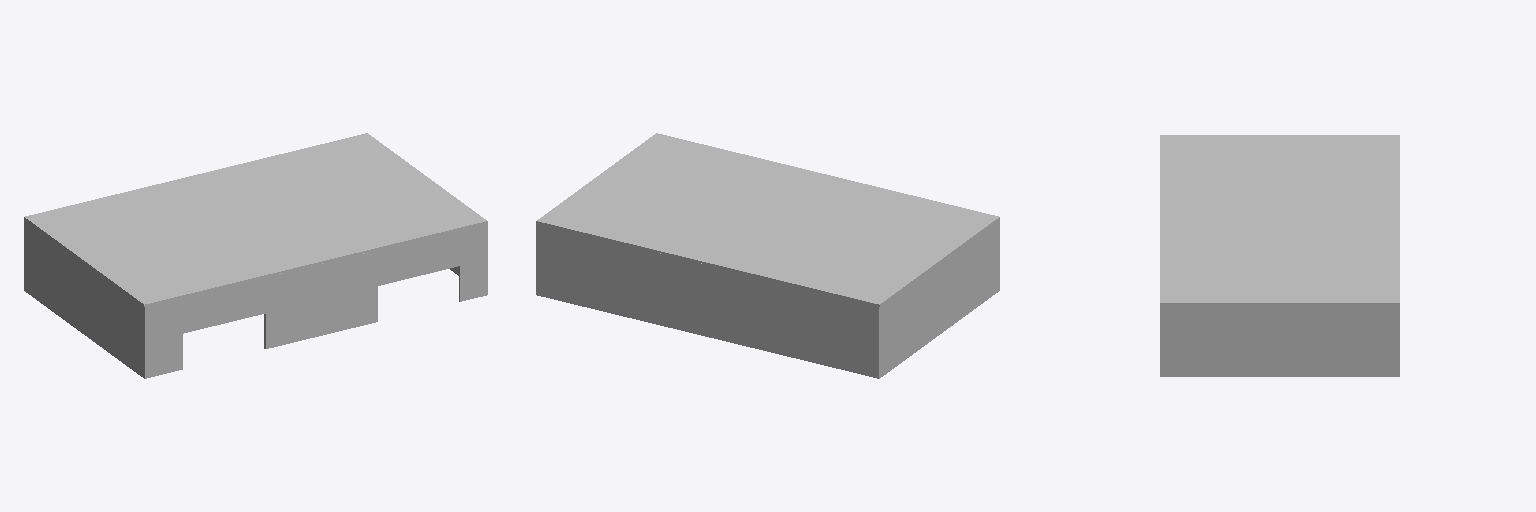
The model's file is garagem_parte_fora_paredes.obj.
3 views of the same model, side by side, from view 1: azimuth 30°, elevation 25°; view 2: azimuth 150°, elevation 25°; view 3: azimuth 270°, elevation 25° (orthographic).
Visible parts, largest first — view 1: Obj_Tire, Obj_Walls; view 2: Obj_Tire, Obj_Walls; view 3: Obj_Tire, Obj_Walls.
Part boxes in pixels (bbox=[...]): Obj_Tire: bbox=[24, 133, 487, 306]; Obj_Walls: bbox=[24, 219, 487, 378]; Obj_Tire: bbox=[536, 133, 999, 306]; Obj_Walls: bbox=[536, 219, 999, 378]; Obj_Tire: bbox=[1160, 135, 1399, 304]; Obj_Walls: bbox=[1160, 305, 1399, 376].
Bounding box in the file's own units: 50.02 × 10.33 × 30.31.